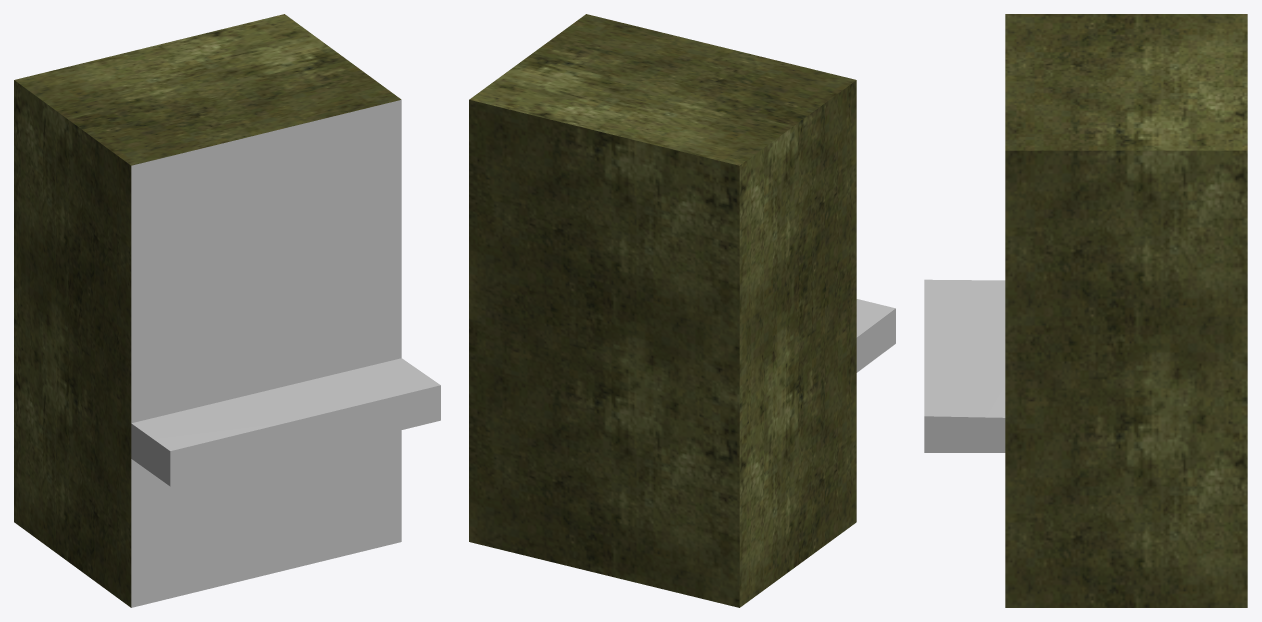
File: frn_all_toolchest_lg_s01_l1.fbx
3 renders of one model, left to right at view 1: azimuth 30°, elevation 25°; view 2: azimuth 150°, elevation 25°; view 3: azimuth 270°, elevation 25°, orthographic. The views are drawn at different scales.
Visible parts, largest first — view 1: mesh_node; view 2: mesh_node; view 3: mesh_node.
Part boxes in pixels (bbox=[...]): mesh_node: bbox=[14, 14, 440, 607]; mesh_node: bbox=[469, 14, 895, 607]; mesh_node: bbox=[924, 14, 1247, 607].
Size of the model in its own units: 1 by 1.56 by 1.
